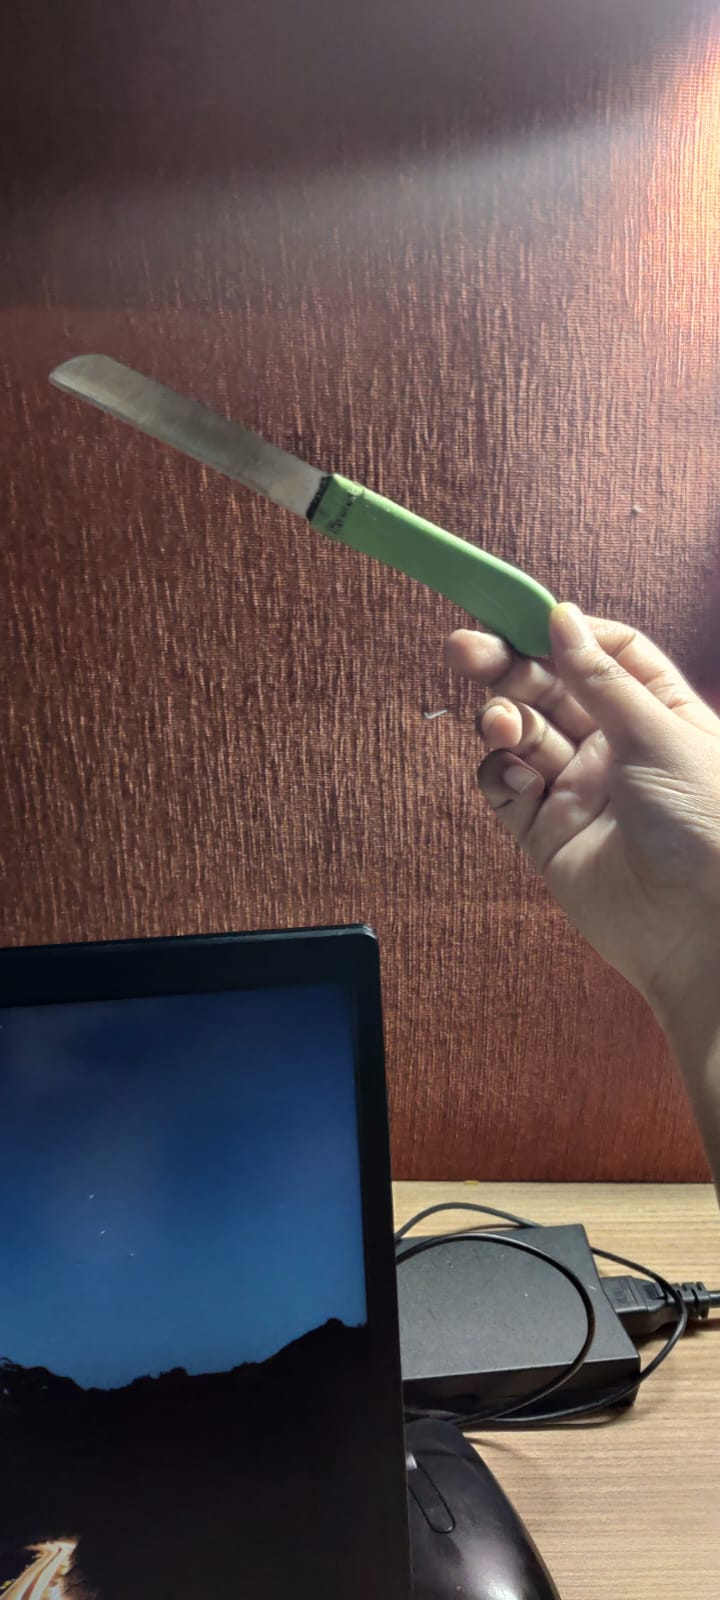knife: (62, 365, 553, 643)
